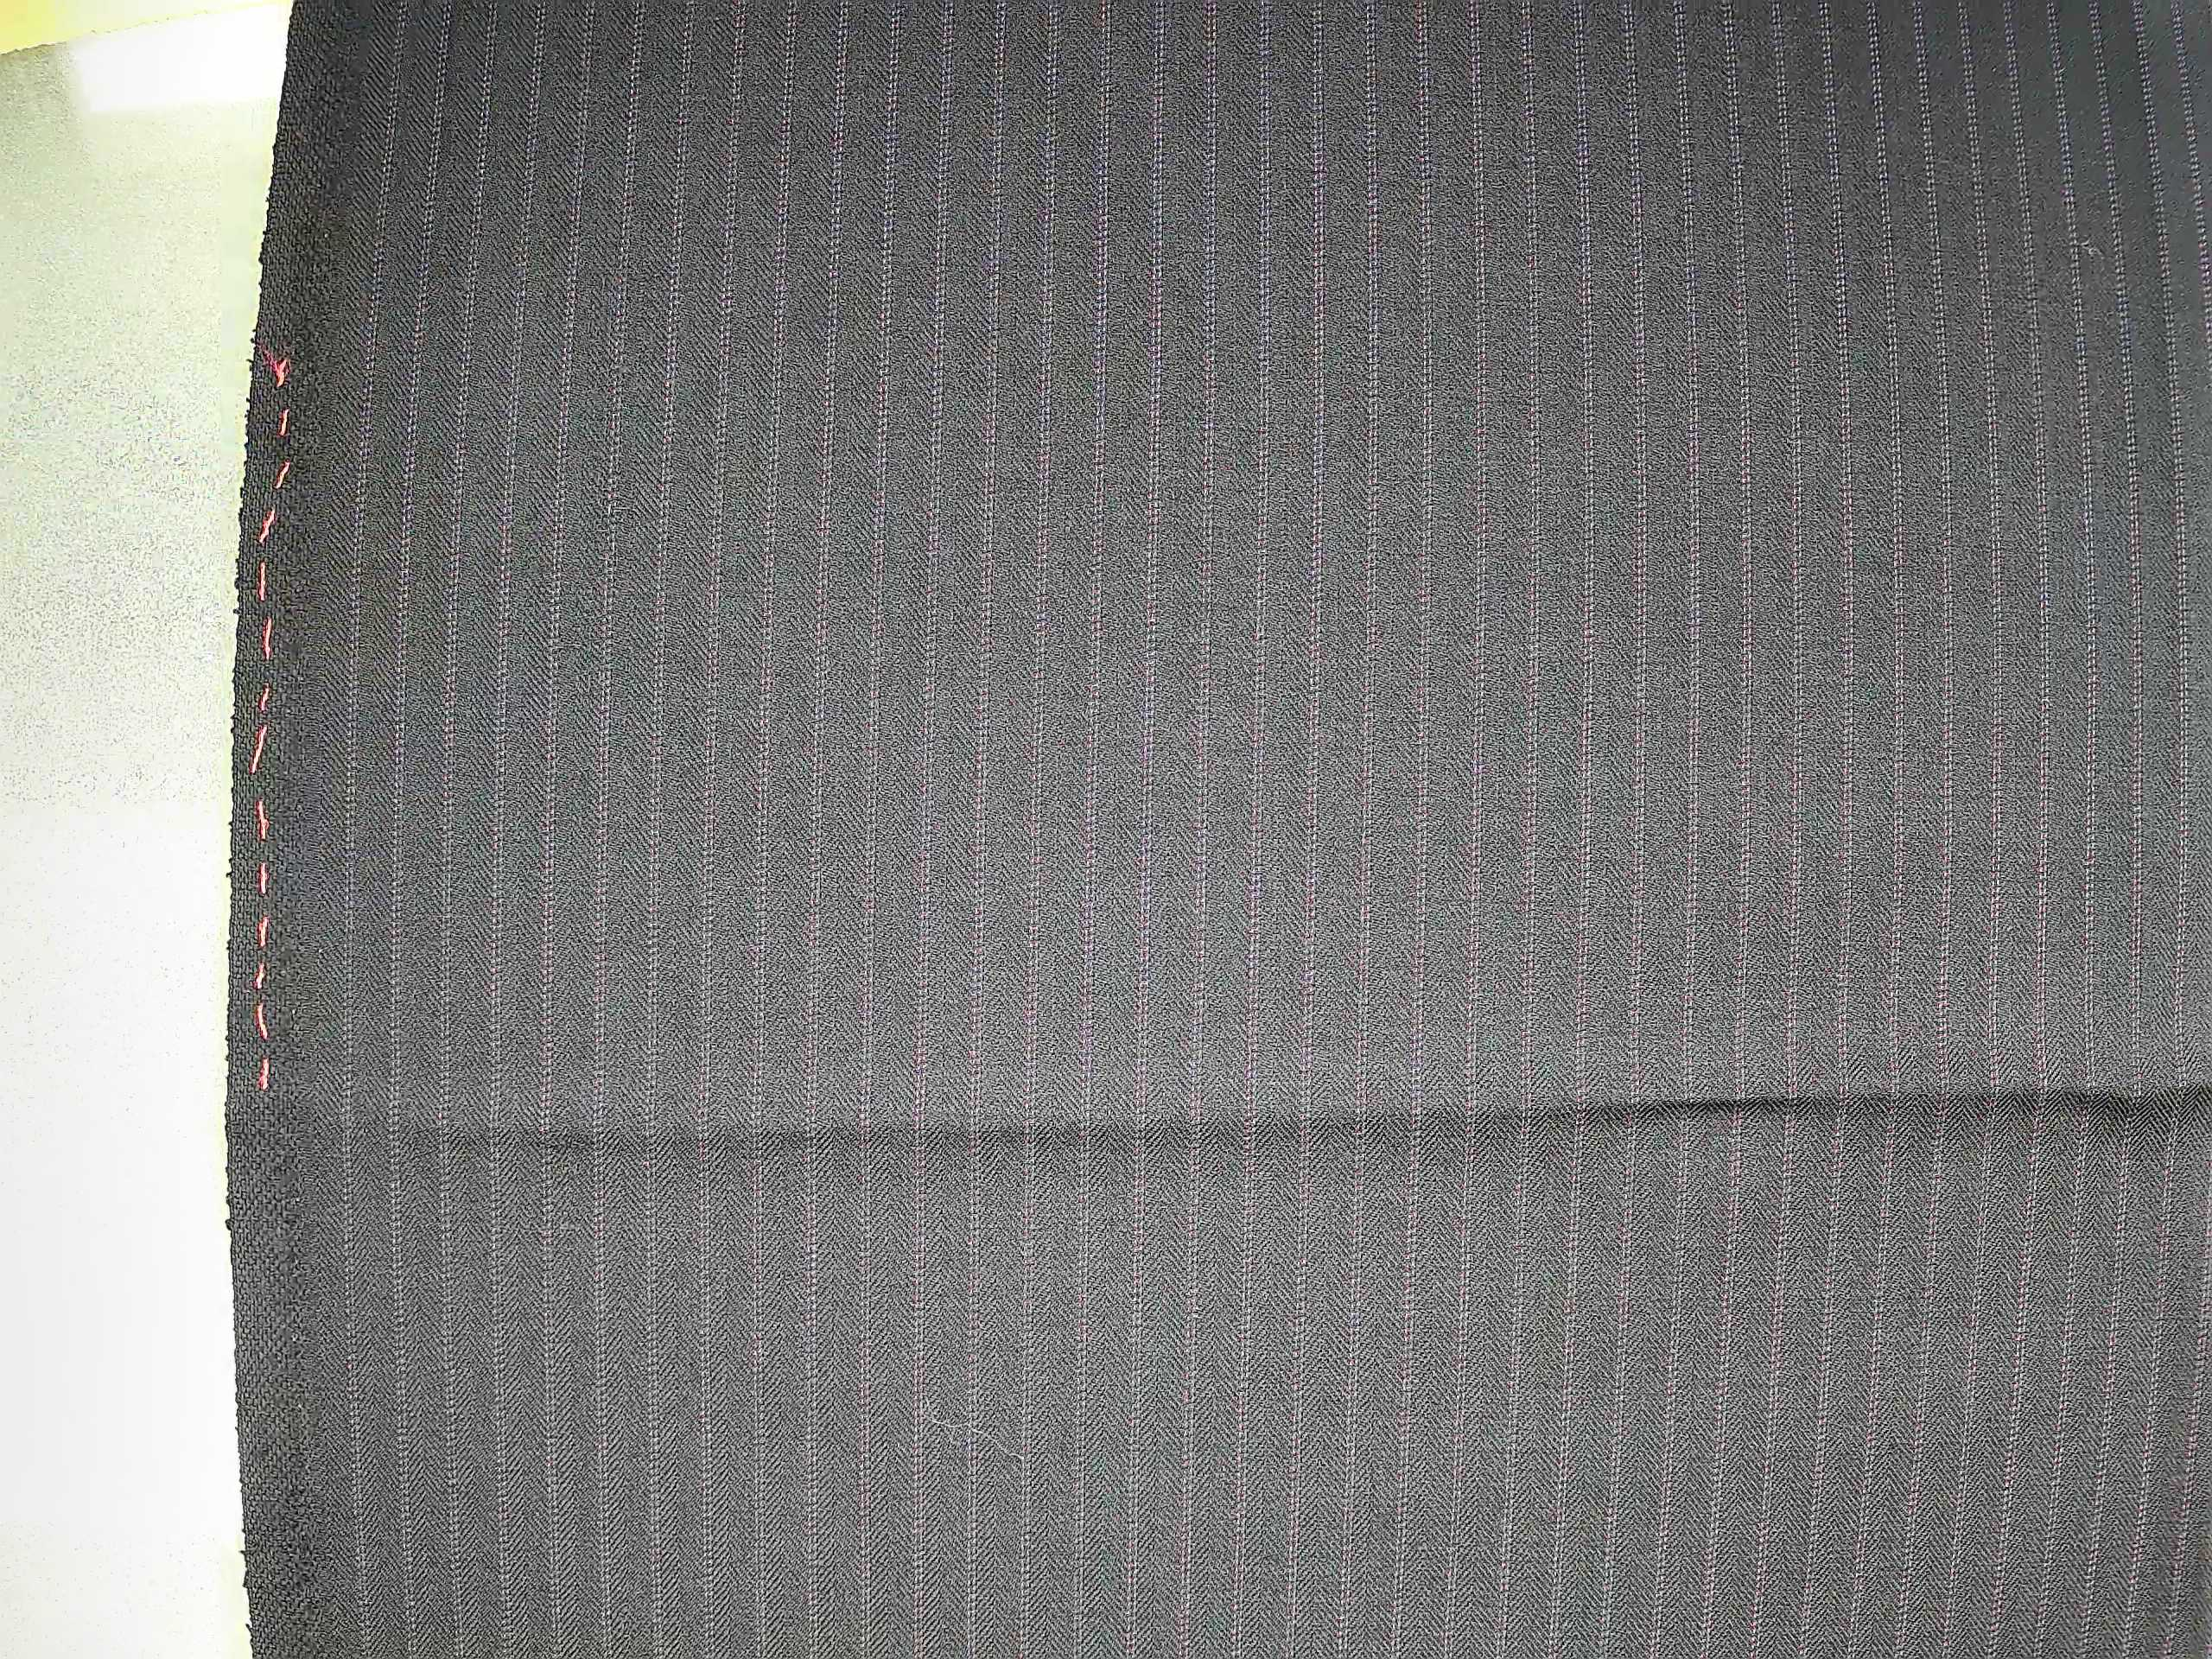jumps: (509, 434, 671, 751), (430, 1202, 740, 1255)
